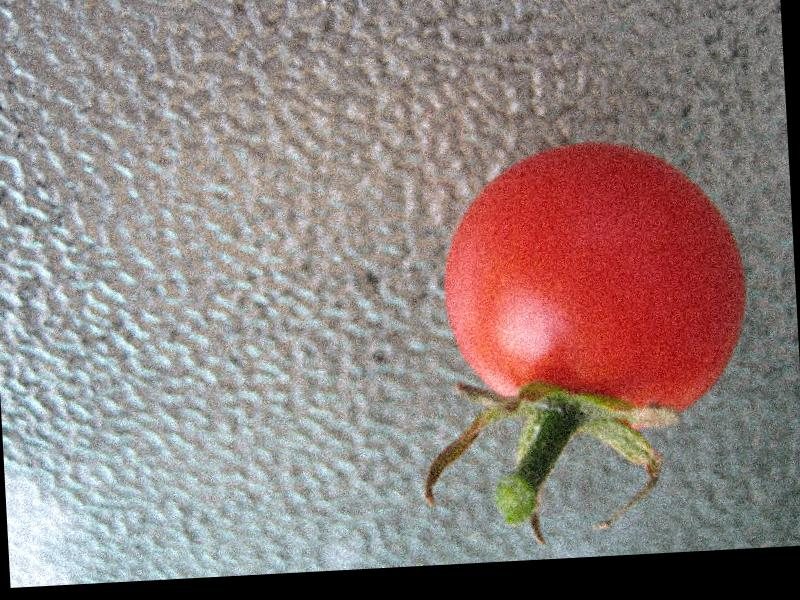Tomato: (433, 133, 749, 425)
